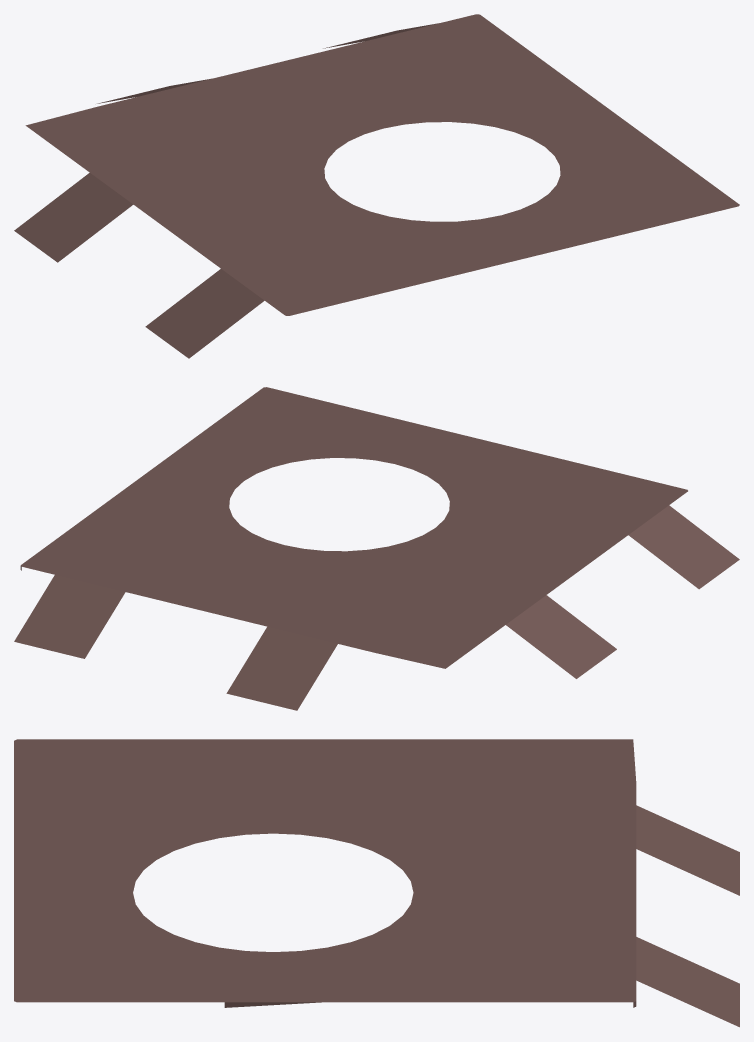
The model's file is MissilePlatform_Path.fbx.
3 renders of one model, top to bottom at view 1: azimuth 30°, elevation 25°; view 2: azimuth 150°, elevation 25°; view 3: azimuth 270°, elevation 25°, orthographic. The views are drawn at different scales.
Visible parts, largest first — view 1: Platform.003; view 2: Platform.003; view 3: Platform.003.
Part boxes in pixels (bbox=[...]): Platform.003: bbox=[14, 14, 739, 358]; Platform.003: bbox=[14, 387, 739, 710]; Platform.003: bbox=[14, 739, 739, 1027].
Bounding box in the file's own units: 4200 × 300 × 4200.
